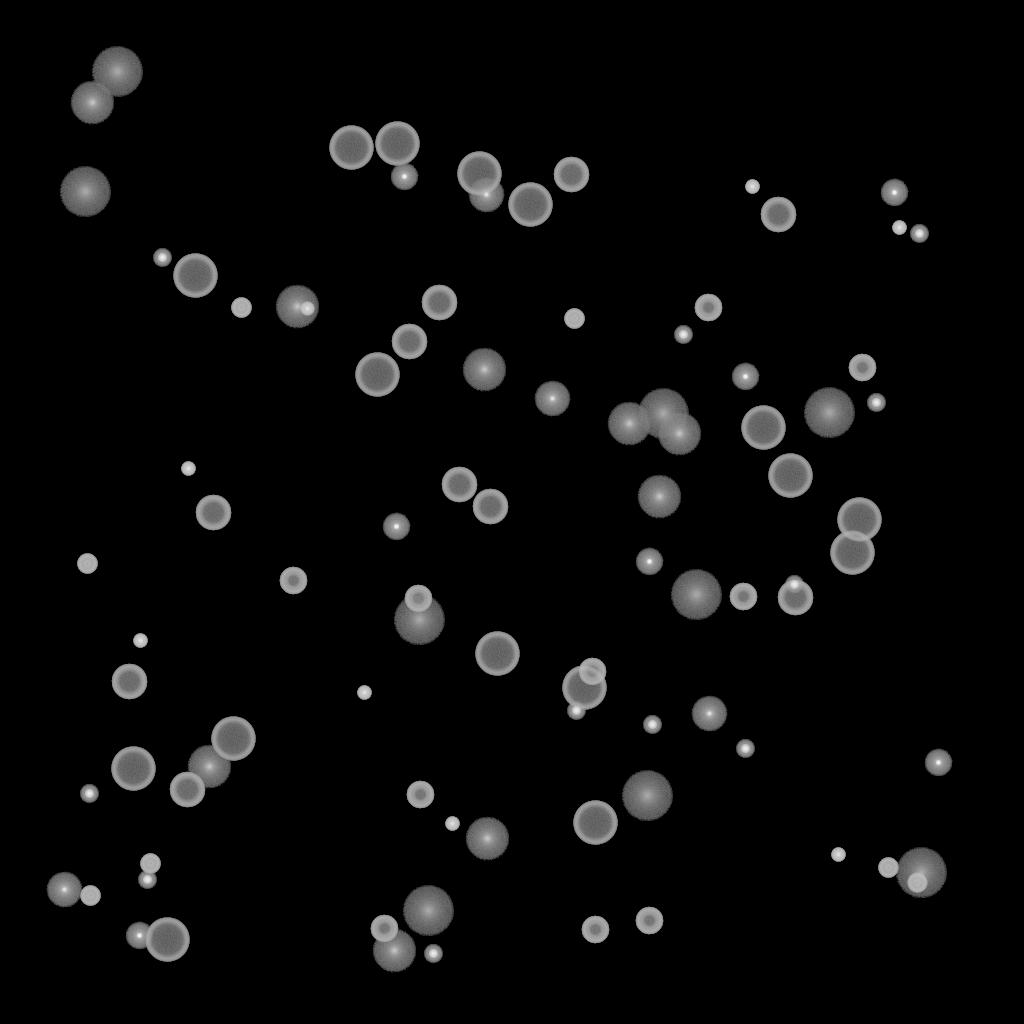depth:-10: (731, 363, 759, 391), (390, 163, 418, 191), (880, 179, 908, 207), (125, 922, 153, 950), (382, 513, 410, 541), (924, 749, 952, 777), (635, 548, 663, 576)
depth:-20: (867, 394, 885, 412), (138, 871, 156, 889), (567, 702, 585, 720), (910, 225, 928, 243), (643, 716, 661, 734), (736, 740, 754, 758), (153, 249, 171, 267), (785, 576, 803, 594), (674, 326, 692, 344), (80, 785, 98, 803), (424, 945, 442, 963)
depth:-30: (831, 848, 845, 862), (357, 686, 371, 700), (300, 302, 314, 316), (181, 462, 195, 476), (892, 221, 906, 235), (133, 634, 147, 648), (745, 180, 759, 194), (445, 817, 459, 831)
depth:-40: (231, 298, 251, 318), (564, 309, 584, 329), (77, 554, 97, 574), (80, 886, 100, 906), (907, 873, 927, 893), (878, 858, 898, 878), (140, 854, 160, 874)
depth:-50: (848, 354, 876, 382), (694, 294, 722, 322), (635, 907, 663, 935), (729, 583, 757, 611), (404, 585, 432, 613), (370, 915, 398, 943), (581, 916, 609, 944), (406, 781, 434, 809), (279, 567, 307, 595), (578, 658, 606, 686)
depth:-60: (421, 285, 457, 321), (169, 772, 205, 808), (391, 324, 427, 360), (111, 664, 147, 700), (441, 467, 477, 503), (472, 489, 508, 525), (777, 580, 813, 616), (195, 495, 231, 531), (760, 197, 796, 233), (553, 157, 589, 193)
depth:-70: (830, 531, 874, 575), (375, 122, 419, 166), (329, 126, 373, 170), (457, 152, 501, 196), (475, 632, 519, 676), (573, 801, 617, 845), (837, 498, 881, 542), (741, 406, 785, 450), (211, 717, 255, 761), (111, 747, 155, 791), (173, 254, 217, 298), (768, 454, 812, 498), (562, 666, 606, 710), (508, 183, 552, 227), (355, 353, 399, 397), (145, 918, 189, 962)
depth:0: (468, 177, 504, 213), (46, 872, 82, 908), (691, 696, 727, 732), (534, 381, 570, 417)
depth:10: (187, 745, 231, 789), (607, 402, 651, 446), (372, 929, 416, 973), (275, 285, 319, 329), (70, 81, 114, 125), (637, 475, 681, 519), (465, 817, 509, 861), (462, 348, 506, 392), (657, 412, 701, 456)
depth:20: (803, 388, 855, 438), (895, 848, 947, 898), (637, 389, 689, 439), (59, 167, 111, 217), (402, 886, 454, 936), (621, 771, 673, 821), (91, 47, 143, 97), (670, 570, 722, 620), (393, 595, 445, 645)
